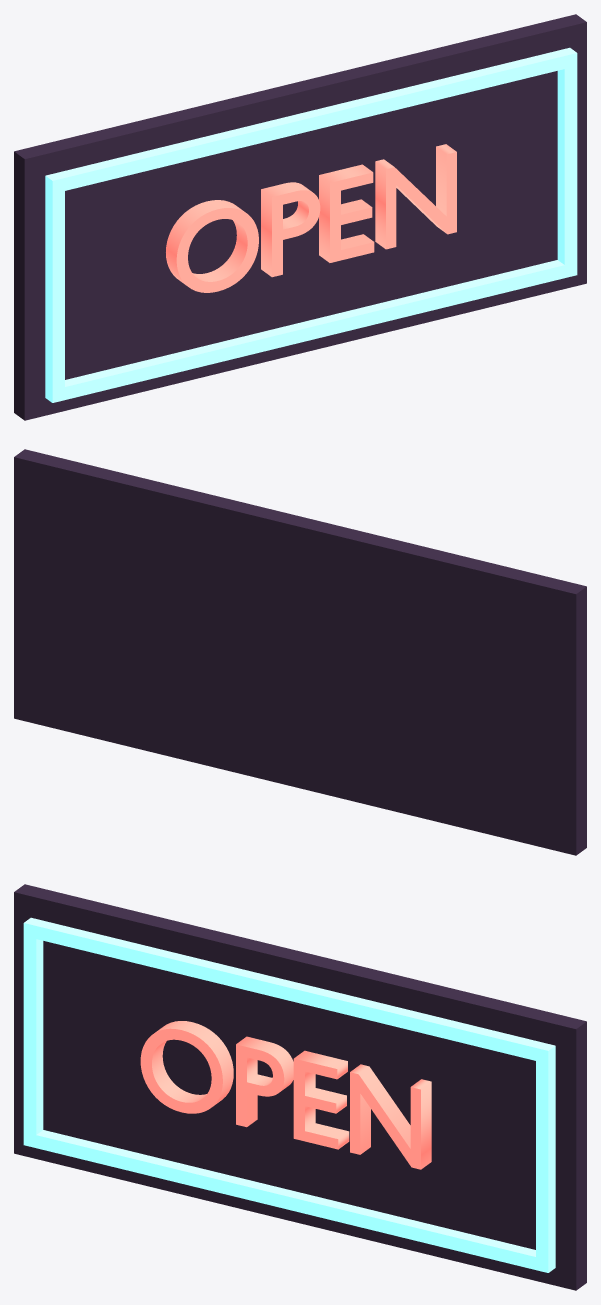
File: neon_open.glb
3 views of the same model, one above another, from view 1: azimuth 30°, elevation 25°; view 2: azimuth 150°, elevation 25°; view 3: azimuth 330°, elevation 25° (orthographic).
Visible parts, largest first — view 1: neon_open; view 2: neon_open; view 3: neon_open.
Part boxes in pixels (x1,y1,x2,y2): neon_open: [14, 14, 586, 420]; neon_open: [14, 449, 586, 855]; neon_open: [14, 884, 586, 1290].
Size of the model in its own units: 0.9 by 0.4 by 0.065.
